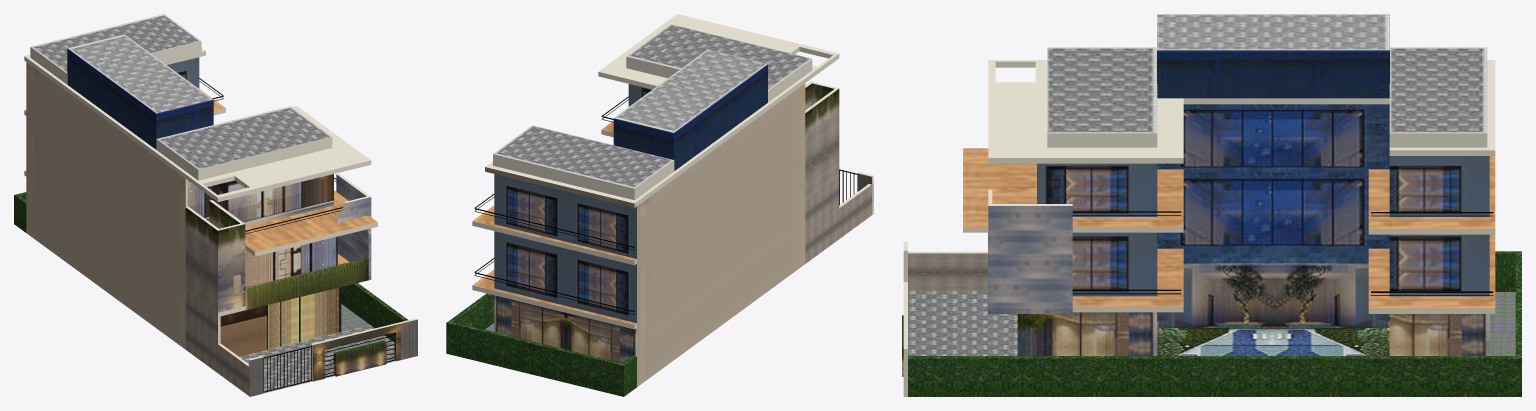
The picture shows the model from 3 angles, left to right: view 1: azimuth 30°, elevation 25°; view 2: azimuth 150°, elevation 25°; view 3: azimuth 270°, elevation 25°; orthographic projection. The views are drawn at different scales.
Visible parts, largest first — view 1: 5b1a49d21c21e330bca3eeb9.001; view 2: 5b1a49d21c21e330bca3eeb9.001; view 3: 5b1a49d21c21e330bca3eeb9.001.
Part boxes in pixels (left/top/right/bottom): 5b1a49d21c21e330bca3eeb9.001: left=14, top=14, right=417, bottom=396; 5b1a49d21c21e330bca3eeb9.001: left=446, top=14, right=873, bottom=396; 5b1a49d21c21e330bca3eeb9.001: left=902, top=14, right=1521, bottom=396.
Size of the model in its own units: 12 by 14.51 by 29.33.
1 material, 1 textured.
